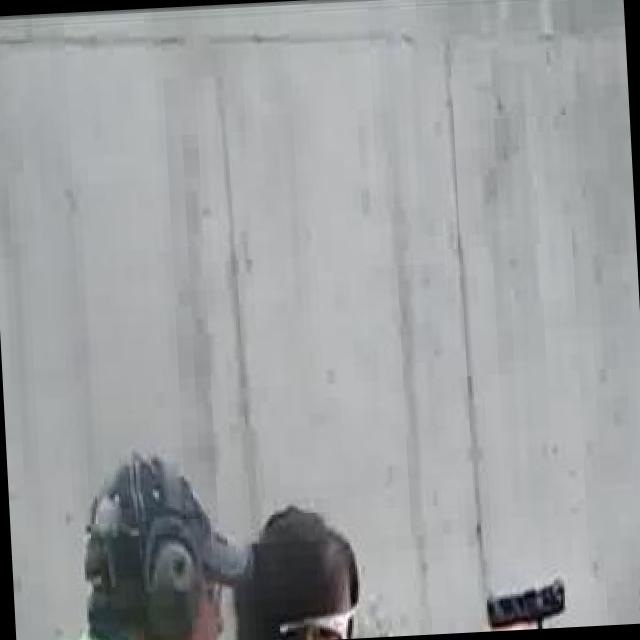Guns: (478, 571, 584, 632)
